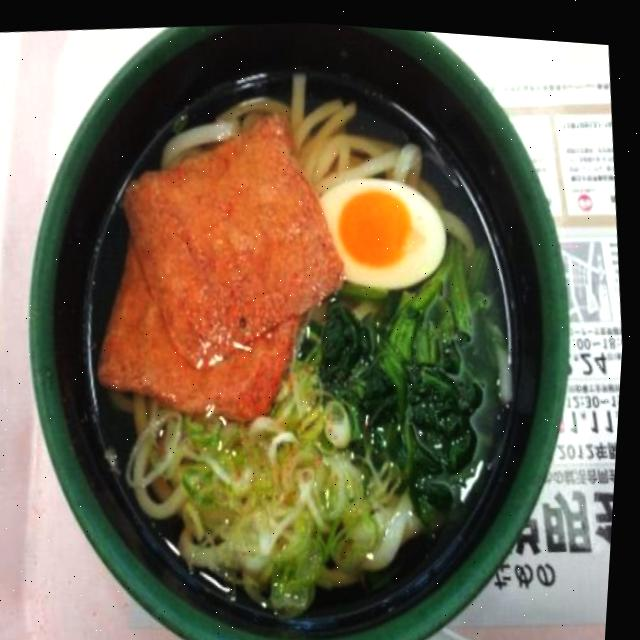面条主食: (0, 1, 625, 640)
